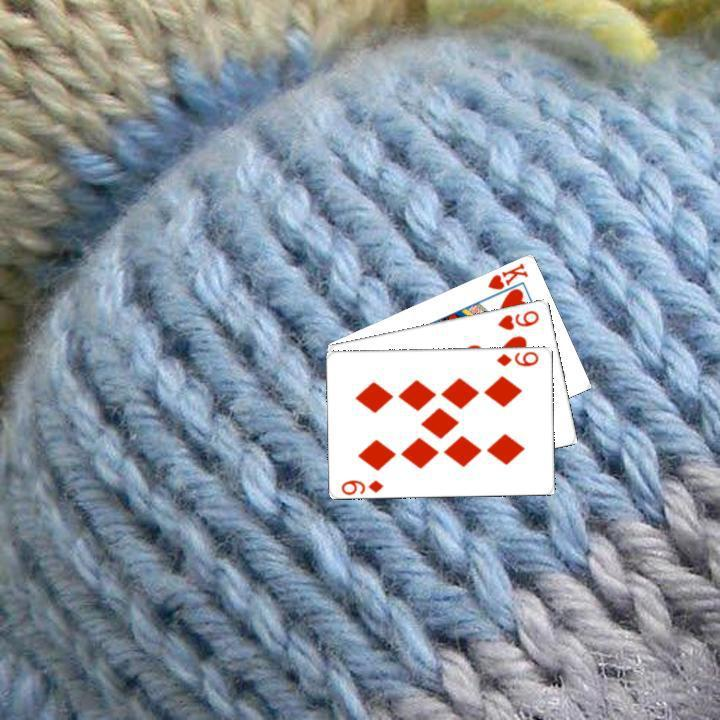9: (494, 305, 541, 332), (493, 348, 541, 368), (337, 475, 385, 495)
K: (483, 258, 530, 292)
